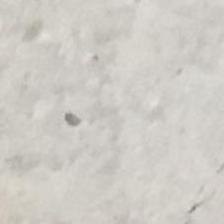Non_Crack: (85, 18, 224, 224)
